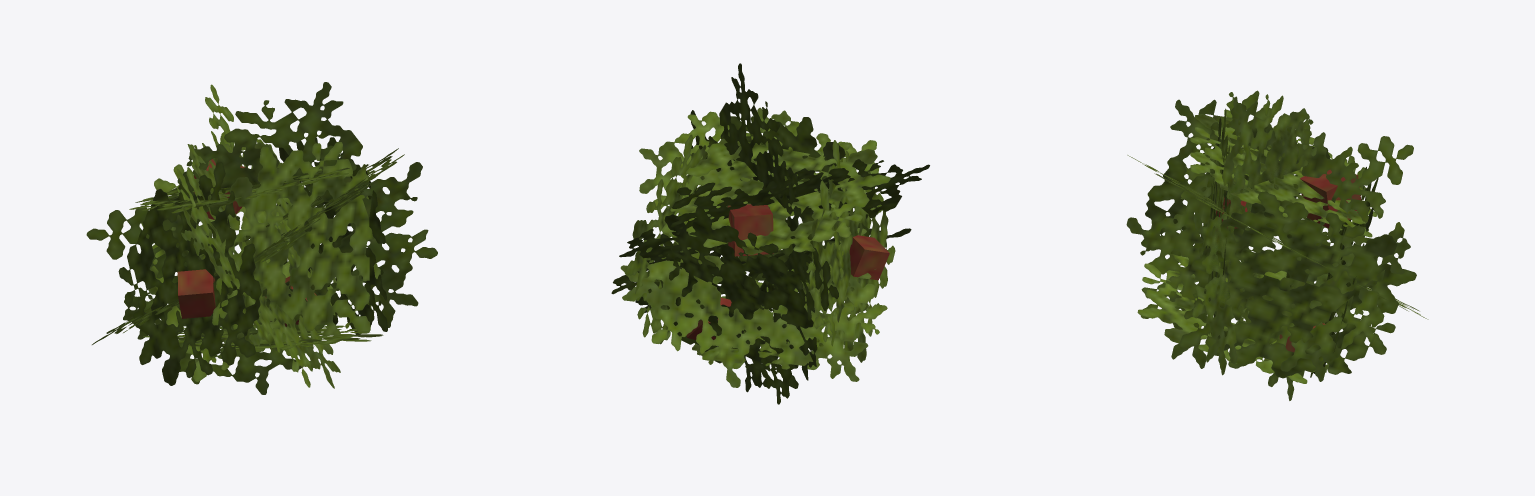
File: apple_leaves_2.obj
3 views of the same model, side by side, from view 1: azimuth 30°, elevation 25°; view 2: azimuth 150°, elevation 25°; view 3: azimuth 270°, elevation 25° (orthographic). The views are drawn at different scales.
Visible parts, largest first — view 1: west, south, bottom, east, top, cube, north; view 2: east, west, north, south, bottom, top, cube; view 3: top, west, south, north, bottom, east, cube.
Part boxes in pixels (<box>): west: <box>176,84,380,388</box>; south: <box>86,82,437,394</box>; bottom: <box>118,161,261,385</box>; east: <box>92,132,404,381</box>; top: <box>276,137,387,334</box>; cube: <box>177,159,316,326</box>; north: <box>129,162,349,213</box>; east: <box>620,107,887,388</box>; west: <box>611,116,929,314</box>; north: <box>661,118,890,254</box>; south: <box>678,63,868,404</box>; bottom: <box>808,140,895,372</box>; top: <box>625,134,723,344</box>; cube: <box>686,204,889,339</box>; top: <box>1179,191,1416,378</box>; west: <box>1126,90,1413,381</box>; south: <box>1137,94,1365,400</box>; north: <box>1190,109,1376,237</box>; bottom: <box>1141,103,1359,278</box>; east: <box>1127,155,1428,377</box>; cube: <box>1216,169,1361,352</box>.
Bounding box in the file's own units: 1.98 × 2.25 × 2.27.
